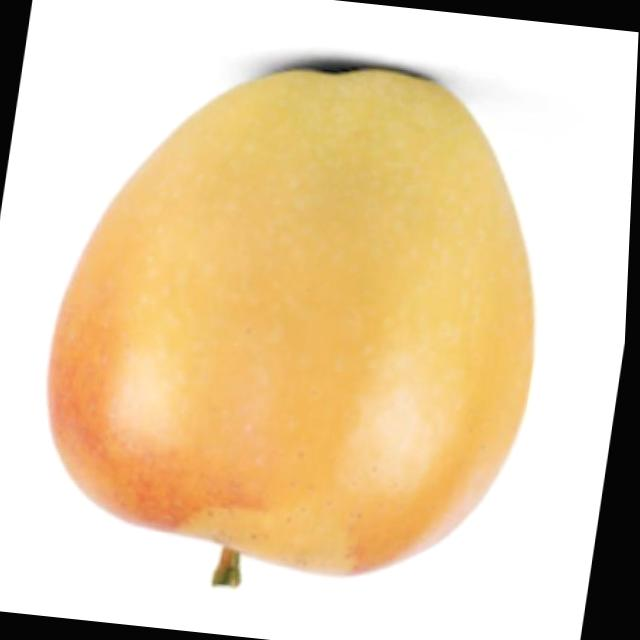Apple: (20, 36, 578, 618)
